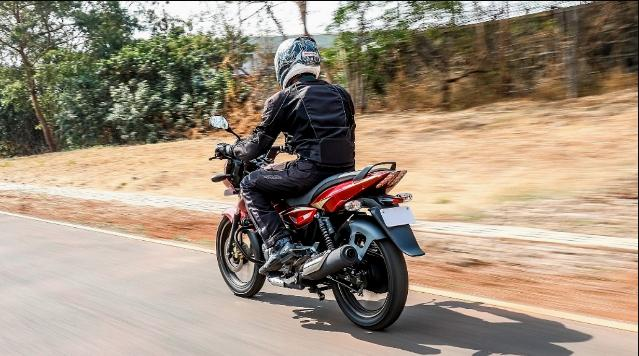licensePlate: (379, 203, 415, 228)
motorcycle: (211, 27, 422, 328)
withHelmet: (270, 33, 318, 82)
